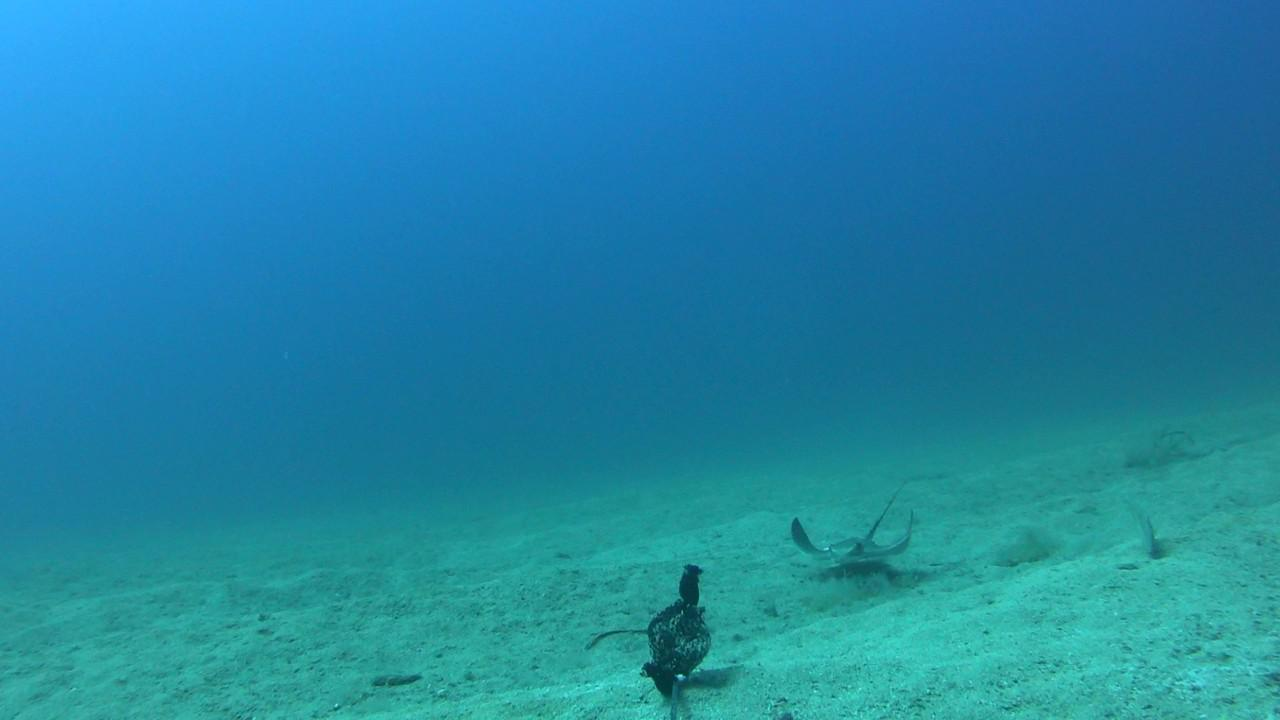myliobatis: (770, 465, 945, 574)
